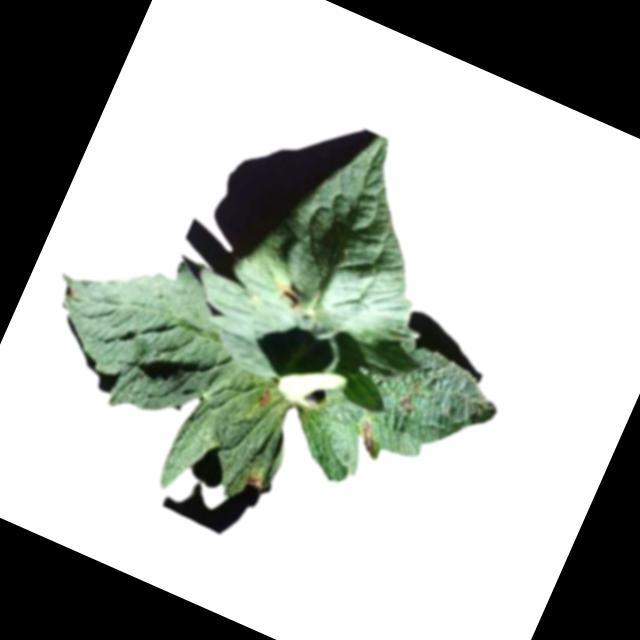Early_blight: (350, 417, 386, 455), (273, 279, 307, 311), (242, 469, 265, 492), (254, 386, 276, 410), (398, 394, 417, 413)
